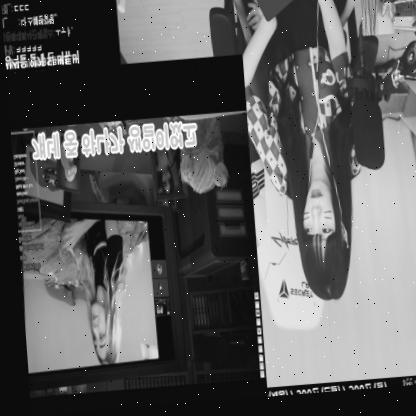streamer: (236, 0, 364, 310)
